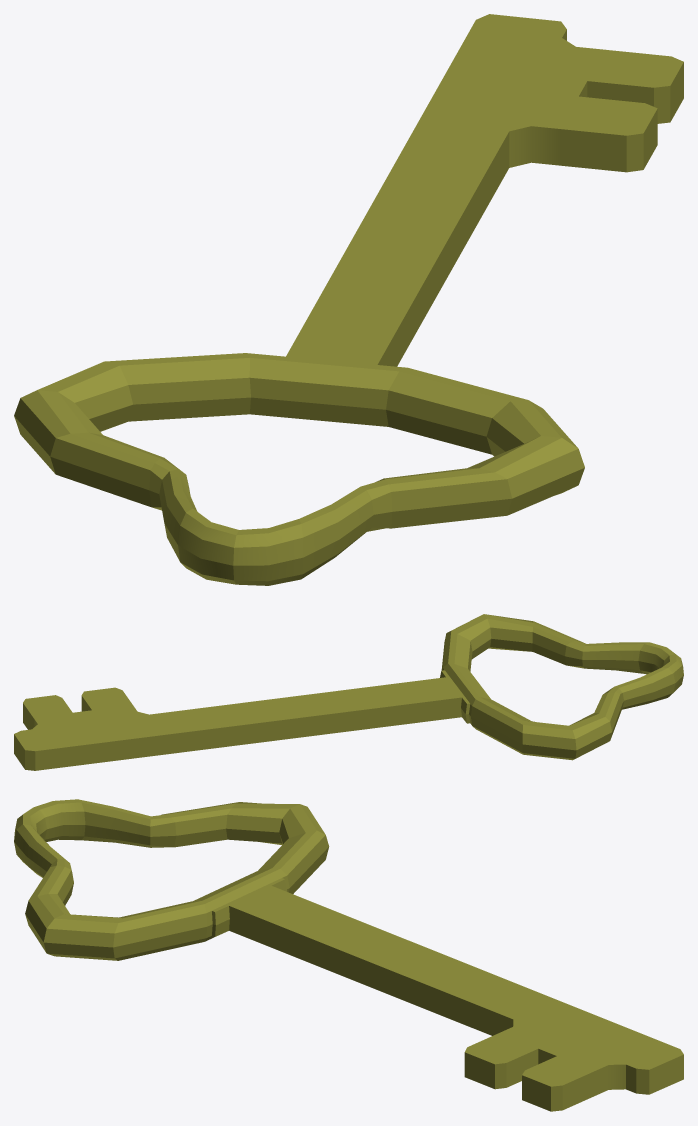
File: Key_01.fbx
3 views of the same model, one above another, from view 1: azimuth 30°, elevation 25°; view 2: azimuth 150°, elevation 25°; view 3: azimuth 270°, elevation 25° (orthographic). The views are drawn at different scales.
Parts seen in each view (by area): view 1: pTorus4; view 2: pTorus4; view 3: pTorus4.
Boxes of the visible parts, x1,y1,x2,y2 form: pTorus4: (14,14,683,585); pTorus4: (14,614,683,770); pTorus4: (14,799,683,1111).
Size of the model in its own units: 3.29 by 0.2025 by 3.25.
